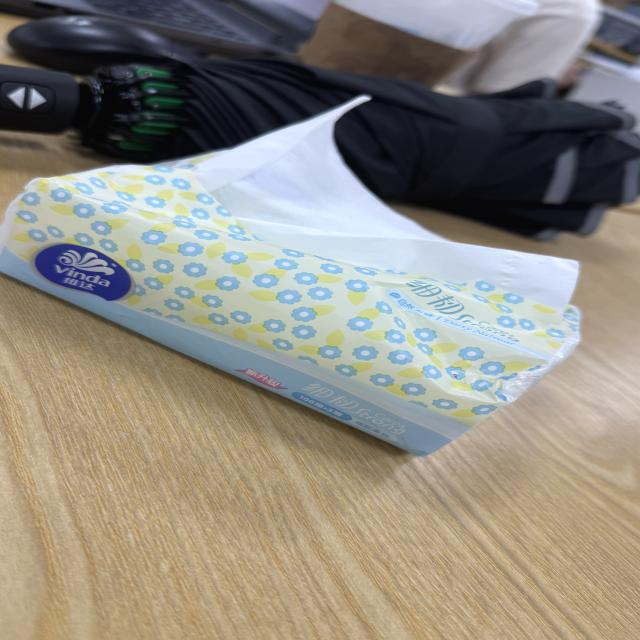tissue: (0, 106, 578, 454)
